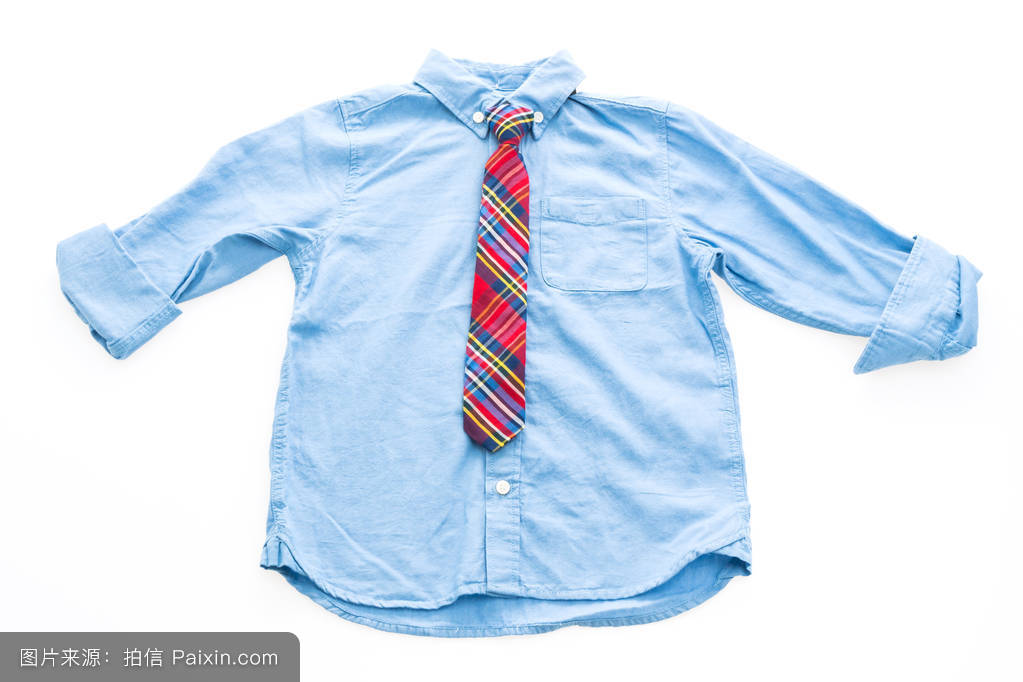flexible: (55, 56, 990, 632)
